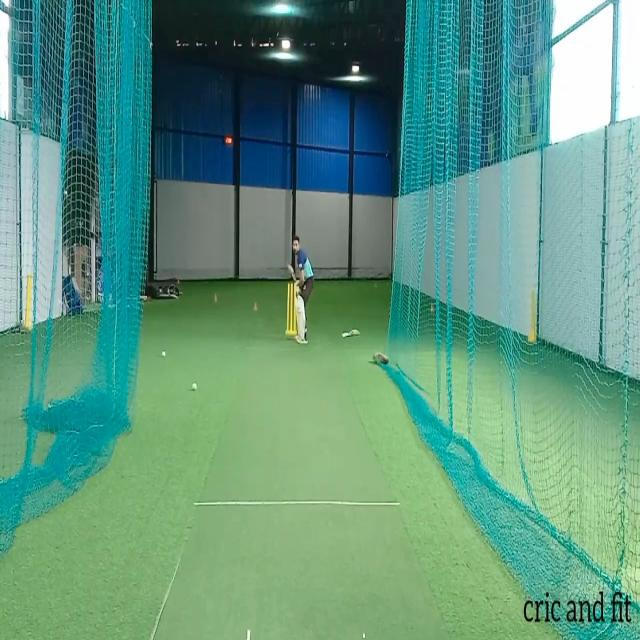batsman: (287, 235, 315, 346)
